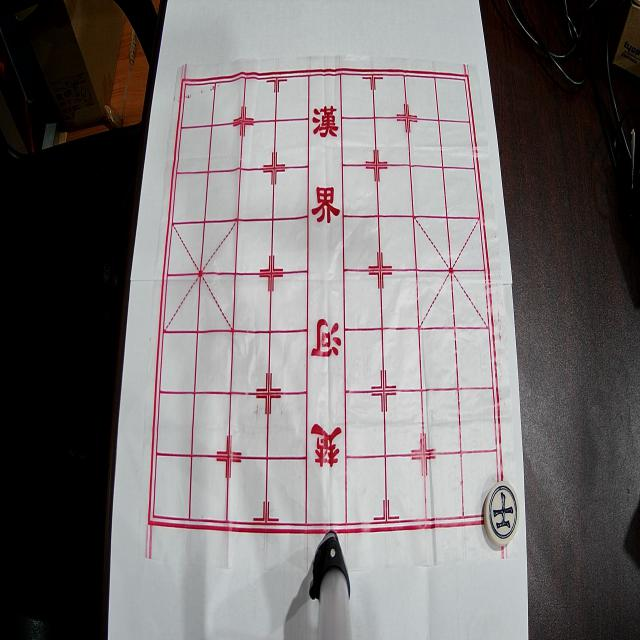black-guard: (484, 481, 520, 546)
